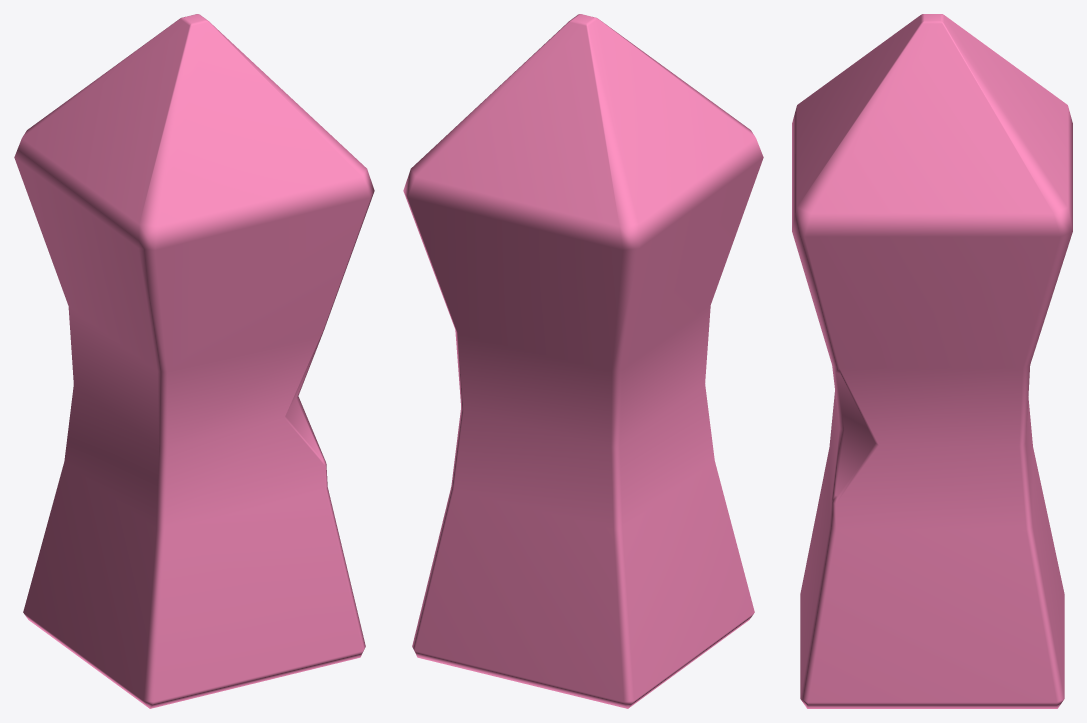
The model's file is Crystal6.fbx.
3 renders of one model, left to right at view 1: azimuth 30°, elevation 25°; view 2: azimuth 150°, elevation 25°; view 3: azimuth 270°, elevation 25°, orthographic. The views are drawn at different scales.
Parts seen in each view (by area): view 1: Crystal6; view 2: Crystal6; view 3: Crystal6.
Part boxes in pixels (x1,y1,x2,y2): Crystal6: [14, 14, 374, 708]; Crystal6: [403, 14, 763, 708]; Crystal6: [792, 14, 1072, 708].
Size of the model in its own units: 43.69 by 110 by 43.69.
